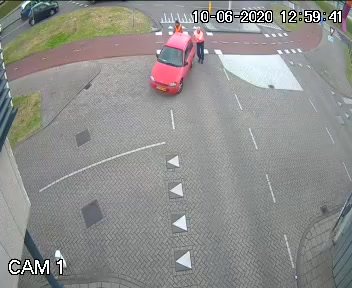car: (141, 35, 207, 99), (21, 0, 61, 28)
